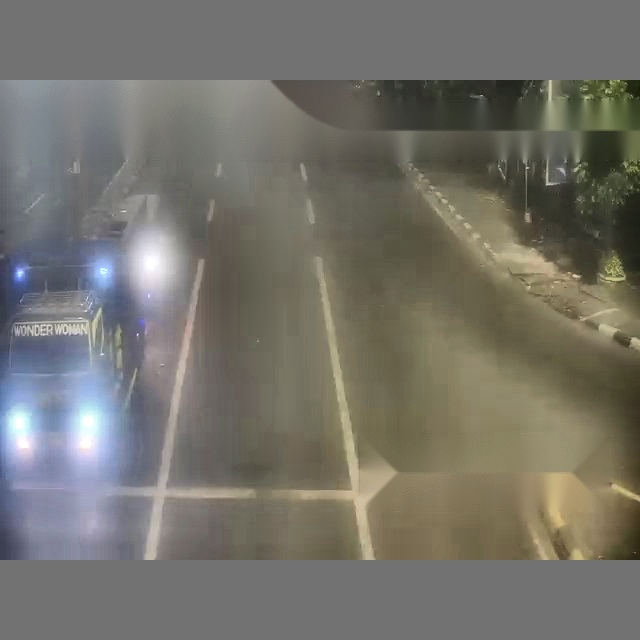Truk: (184, 68, 640, 556)
